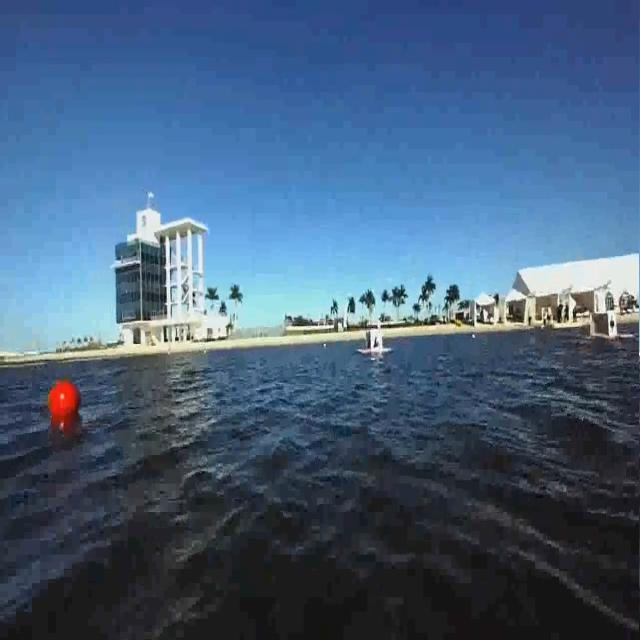red-buoy: (50, 382, 81, 419)
